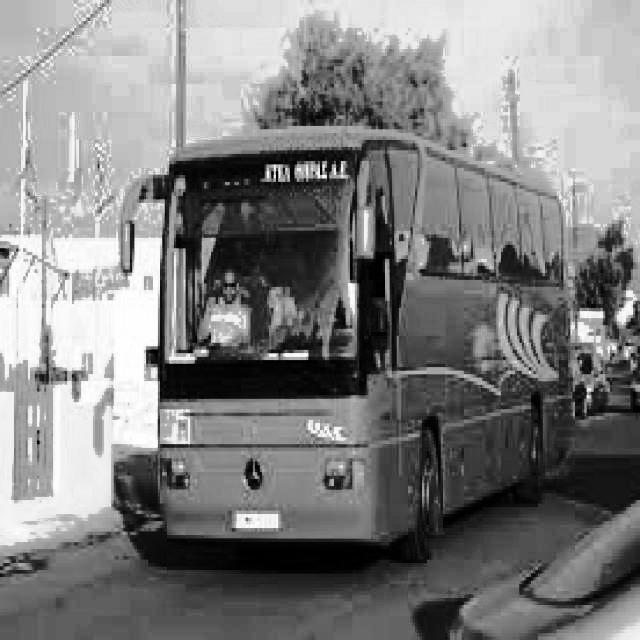Bus: (110, 119, 585, 567)
